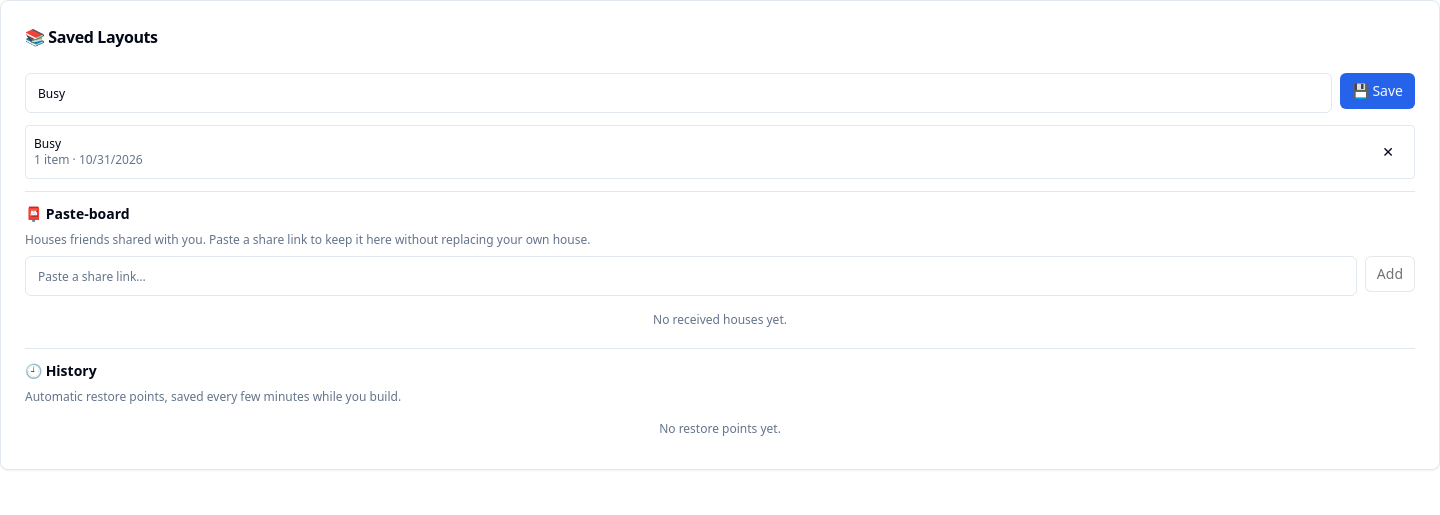
Test: LibraryPanel: no native dialogs (#649, #607) › says inline when a saved layout can’t be read
Click the button "Busy 1 item · 10/31/2026" at (52, 160), box [34,136,1362,168]
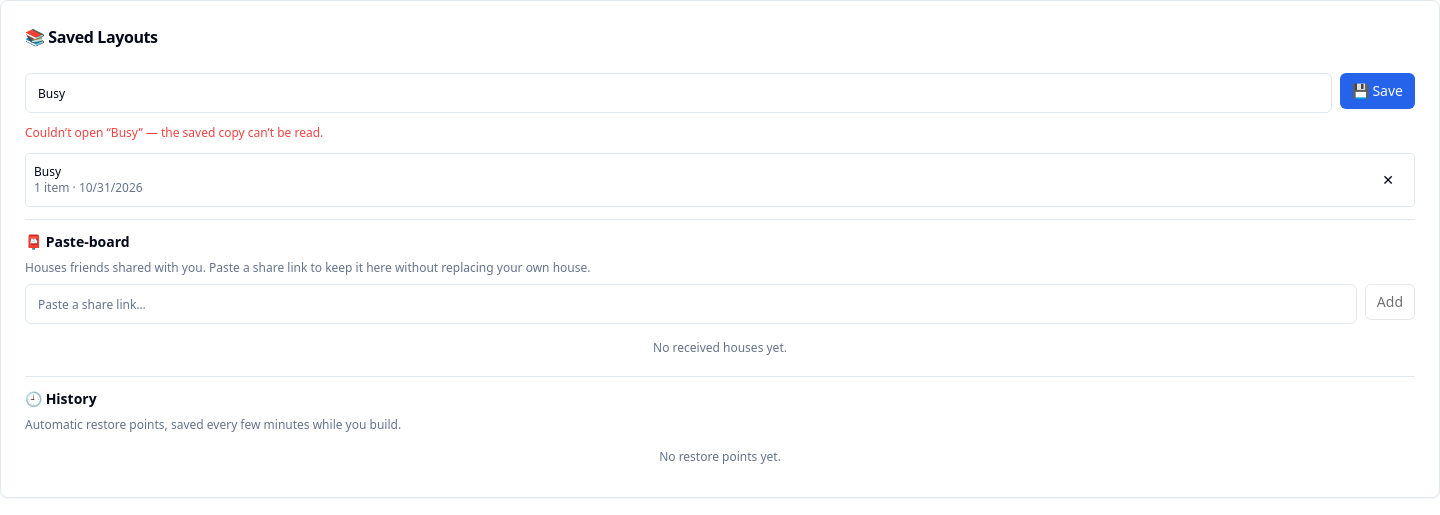
Now the message shows "Couldn’t open “Busy”", box [25,124,323,141]
